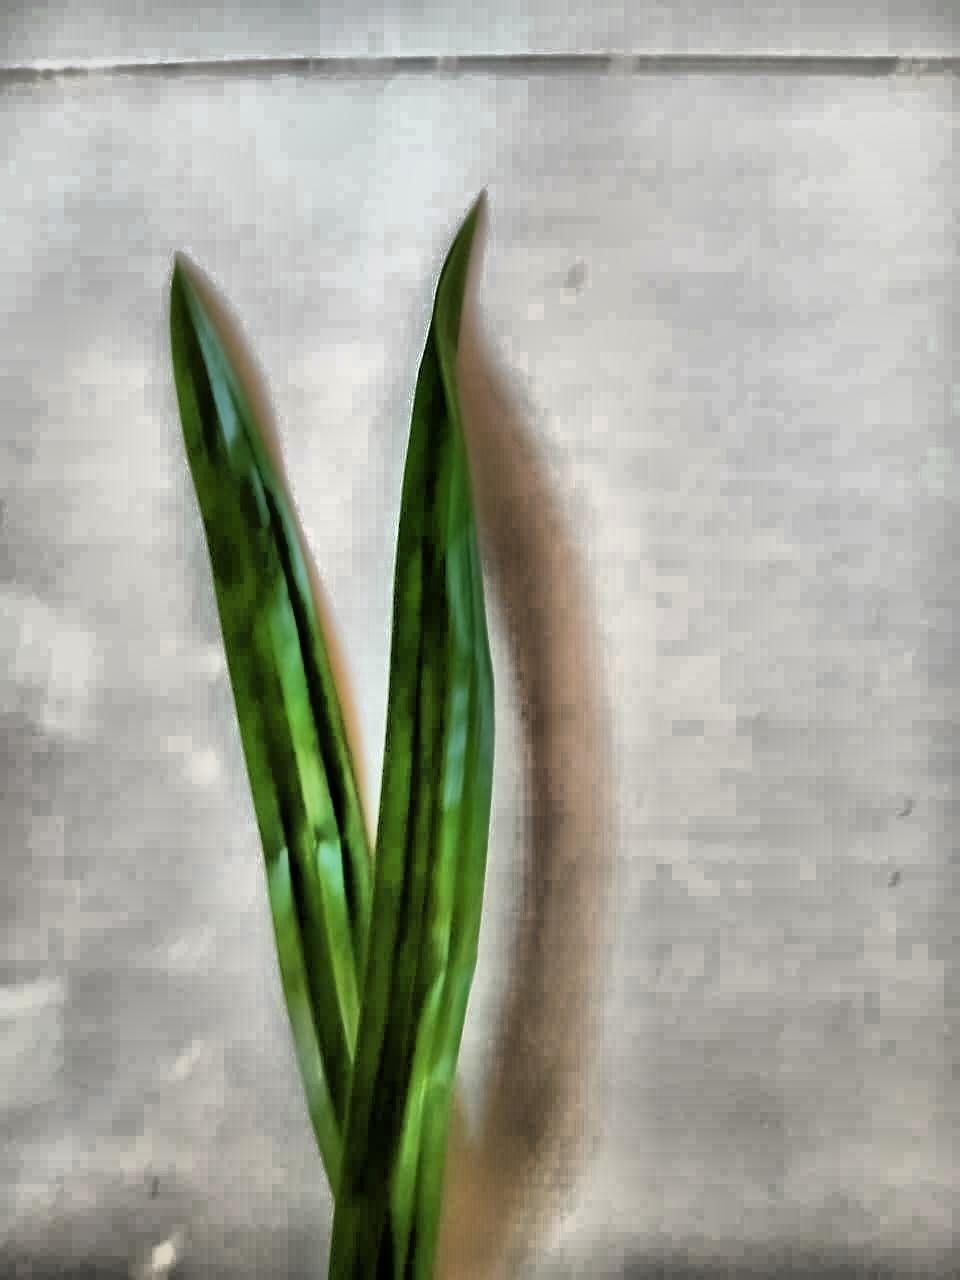daun pandan: (170, 201, 493, 1279)
